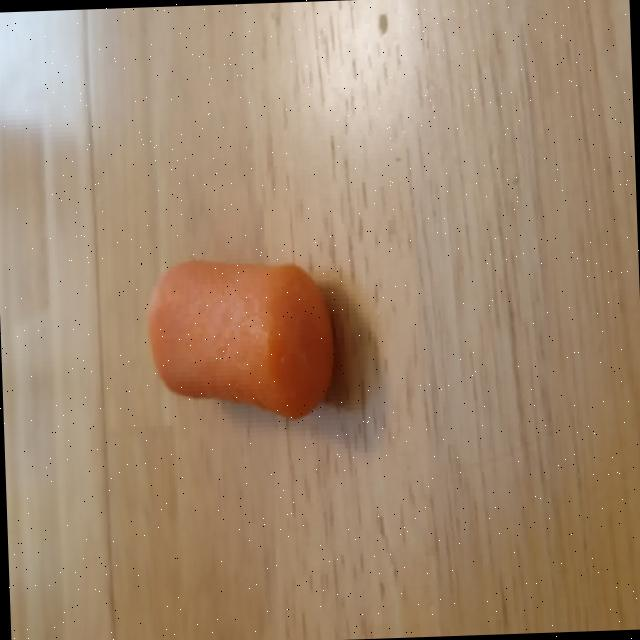carrot: (148, 259, 333, 417)
